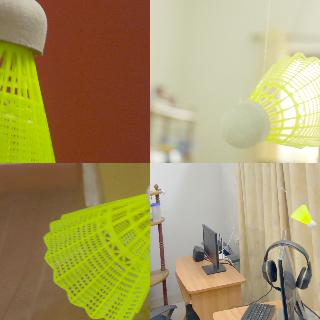shuttlecock: (43, 168, 149, 319), (0, 0, 60, 162), (220, 51, 319, 149), (290, 205, 316, 228)
